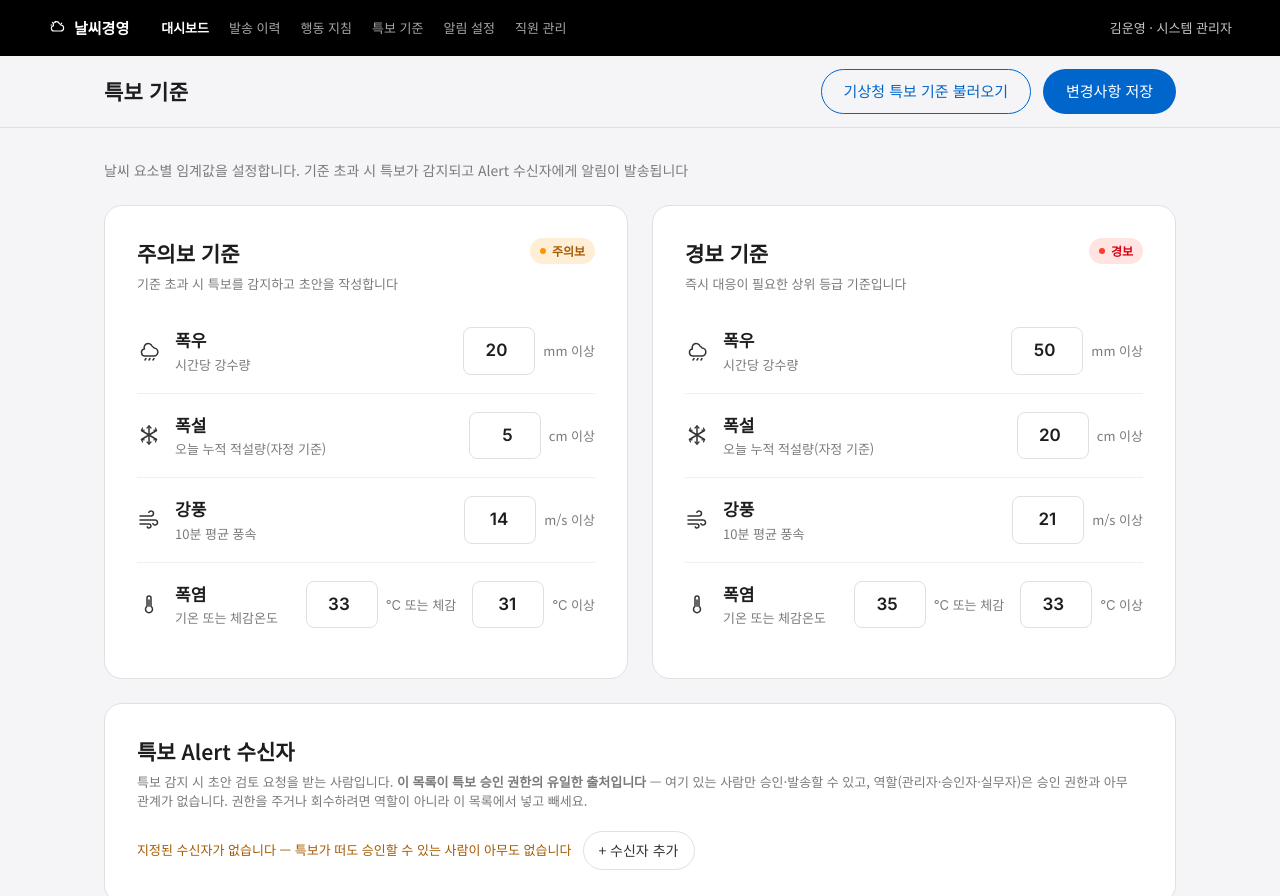
Scenario: Criteria 기준 값 검증 (W-10) › 0이나 음수는 저장하지 않는다
This screenshot has width=1280, height=896.
Replace the text in the number field named "주의보 강풍 기준 · 10분 평균 풍속 (m/s 이상)" with "0" at (500, 520), box [464, 496, 536, 544]
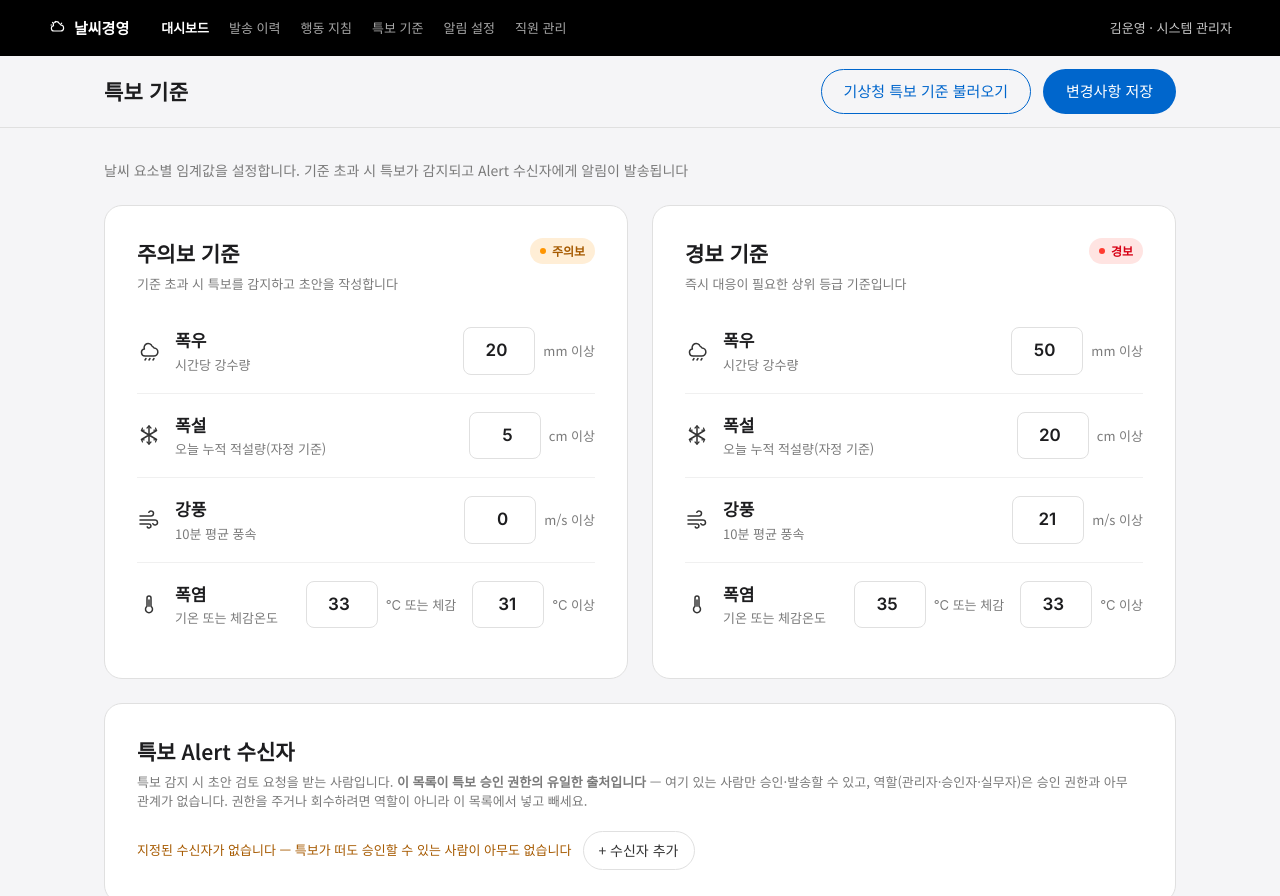
Click the button "변경사항 저장".
click(1110, 92)  # box [1043, 69, 1176, 114]
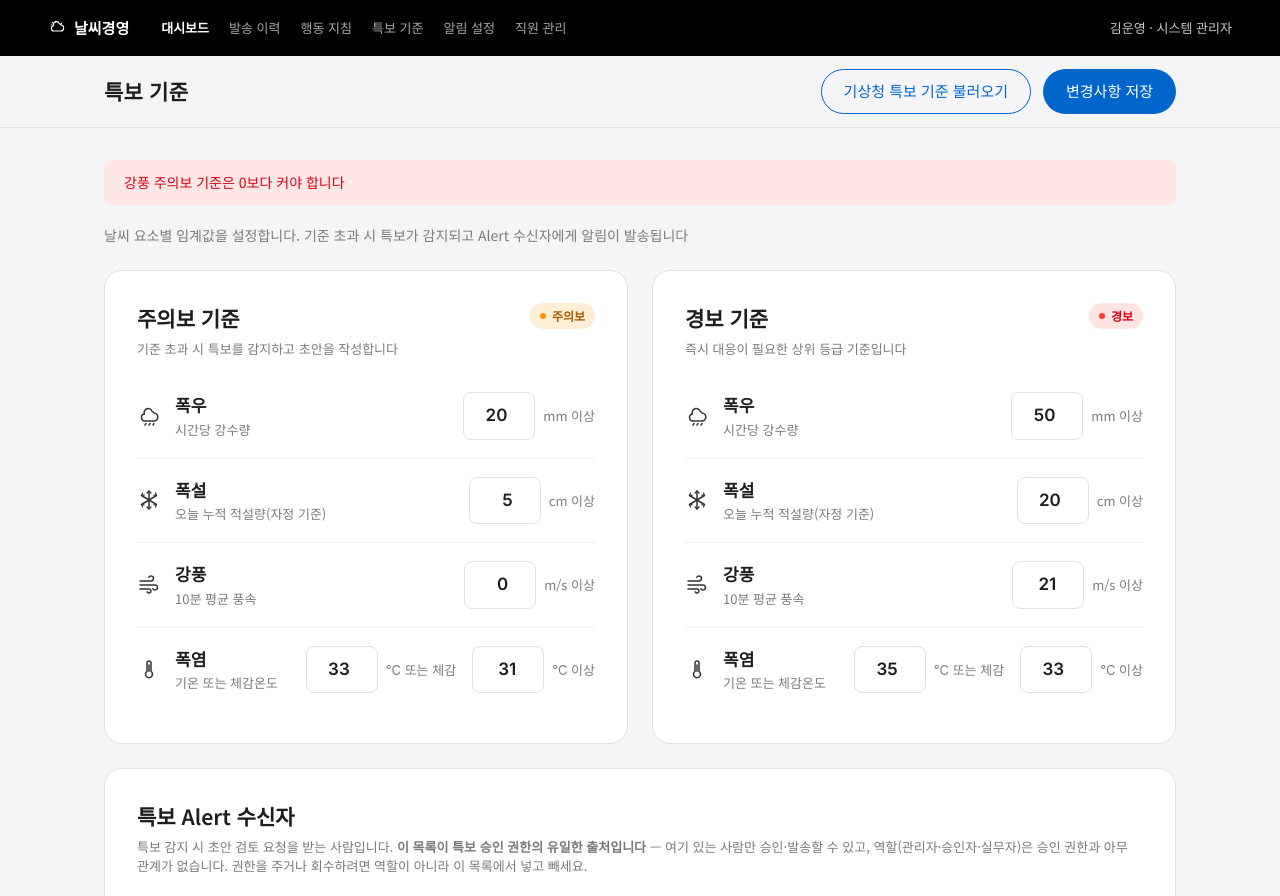
Result: the text "강풍 주의보 기준은 0보다 커야 합니다" is shown at [104, 160, 1176, 205]
